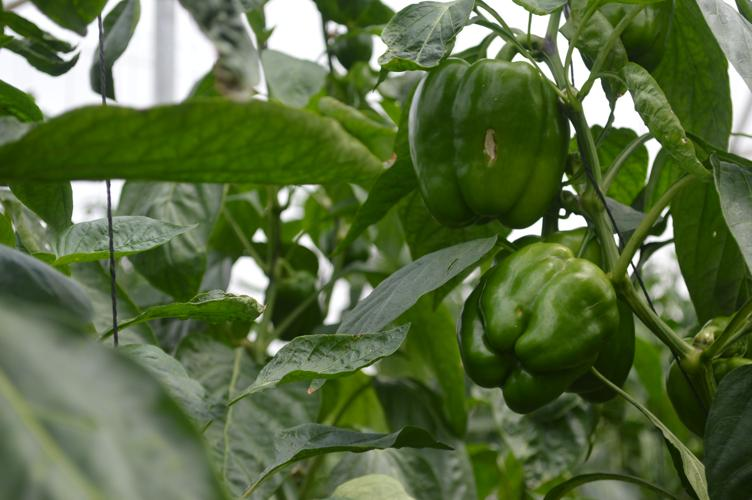BellPepper: (404, 59, 566, 229), (462, 247, 615, 410), (523, 229, 636, 401), (601, 5, 678, 74), (275, 276, 330, 332)
